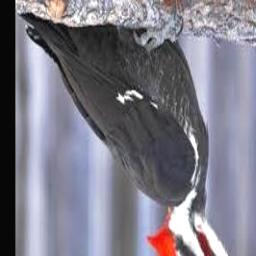Woodpecker: (18, 11, 254, 256)
